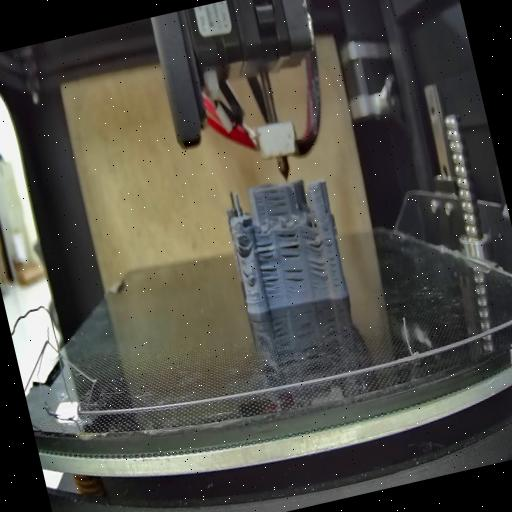cracks: (320, 225, 344, 289), (263, 186, 290, 222), (276, 230, 304, 264), (258, 266, 284, 300), (282, 266, 308, 298), (306, 256, 330, 284), (302, 232, 326, 256), (254, 238, 276, 264), (234, 241, 252, 260), (322, 202, 330, 216), (244, 268, 252, 280)
